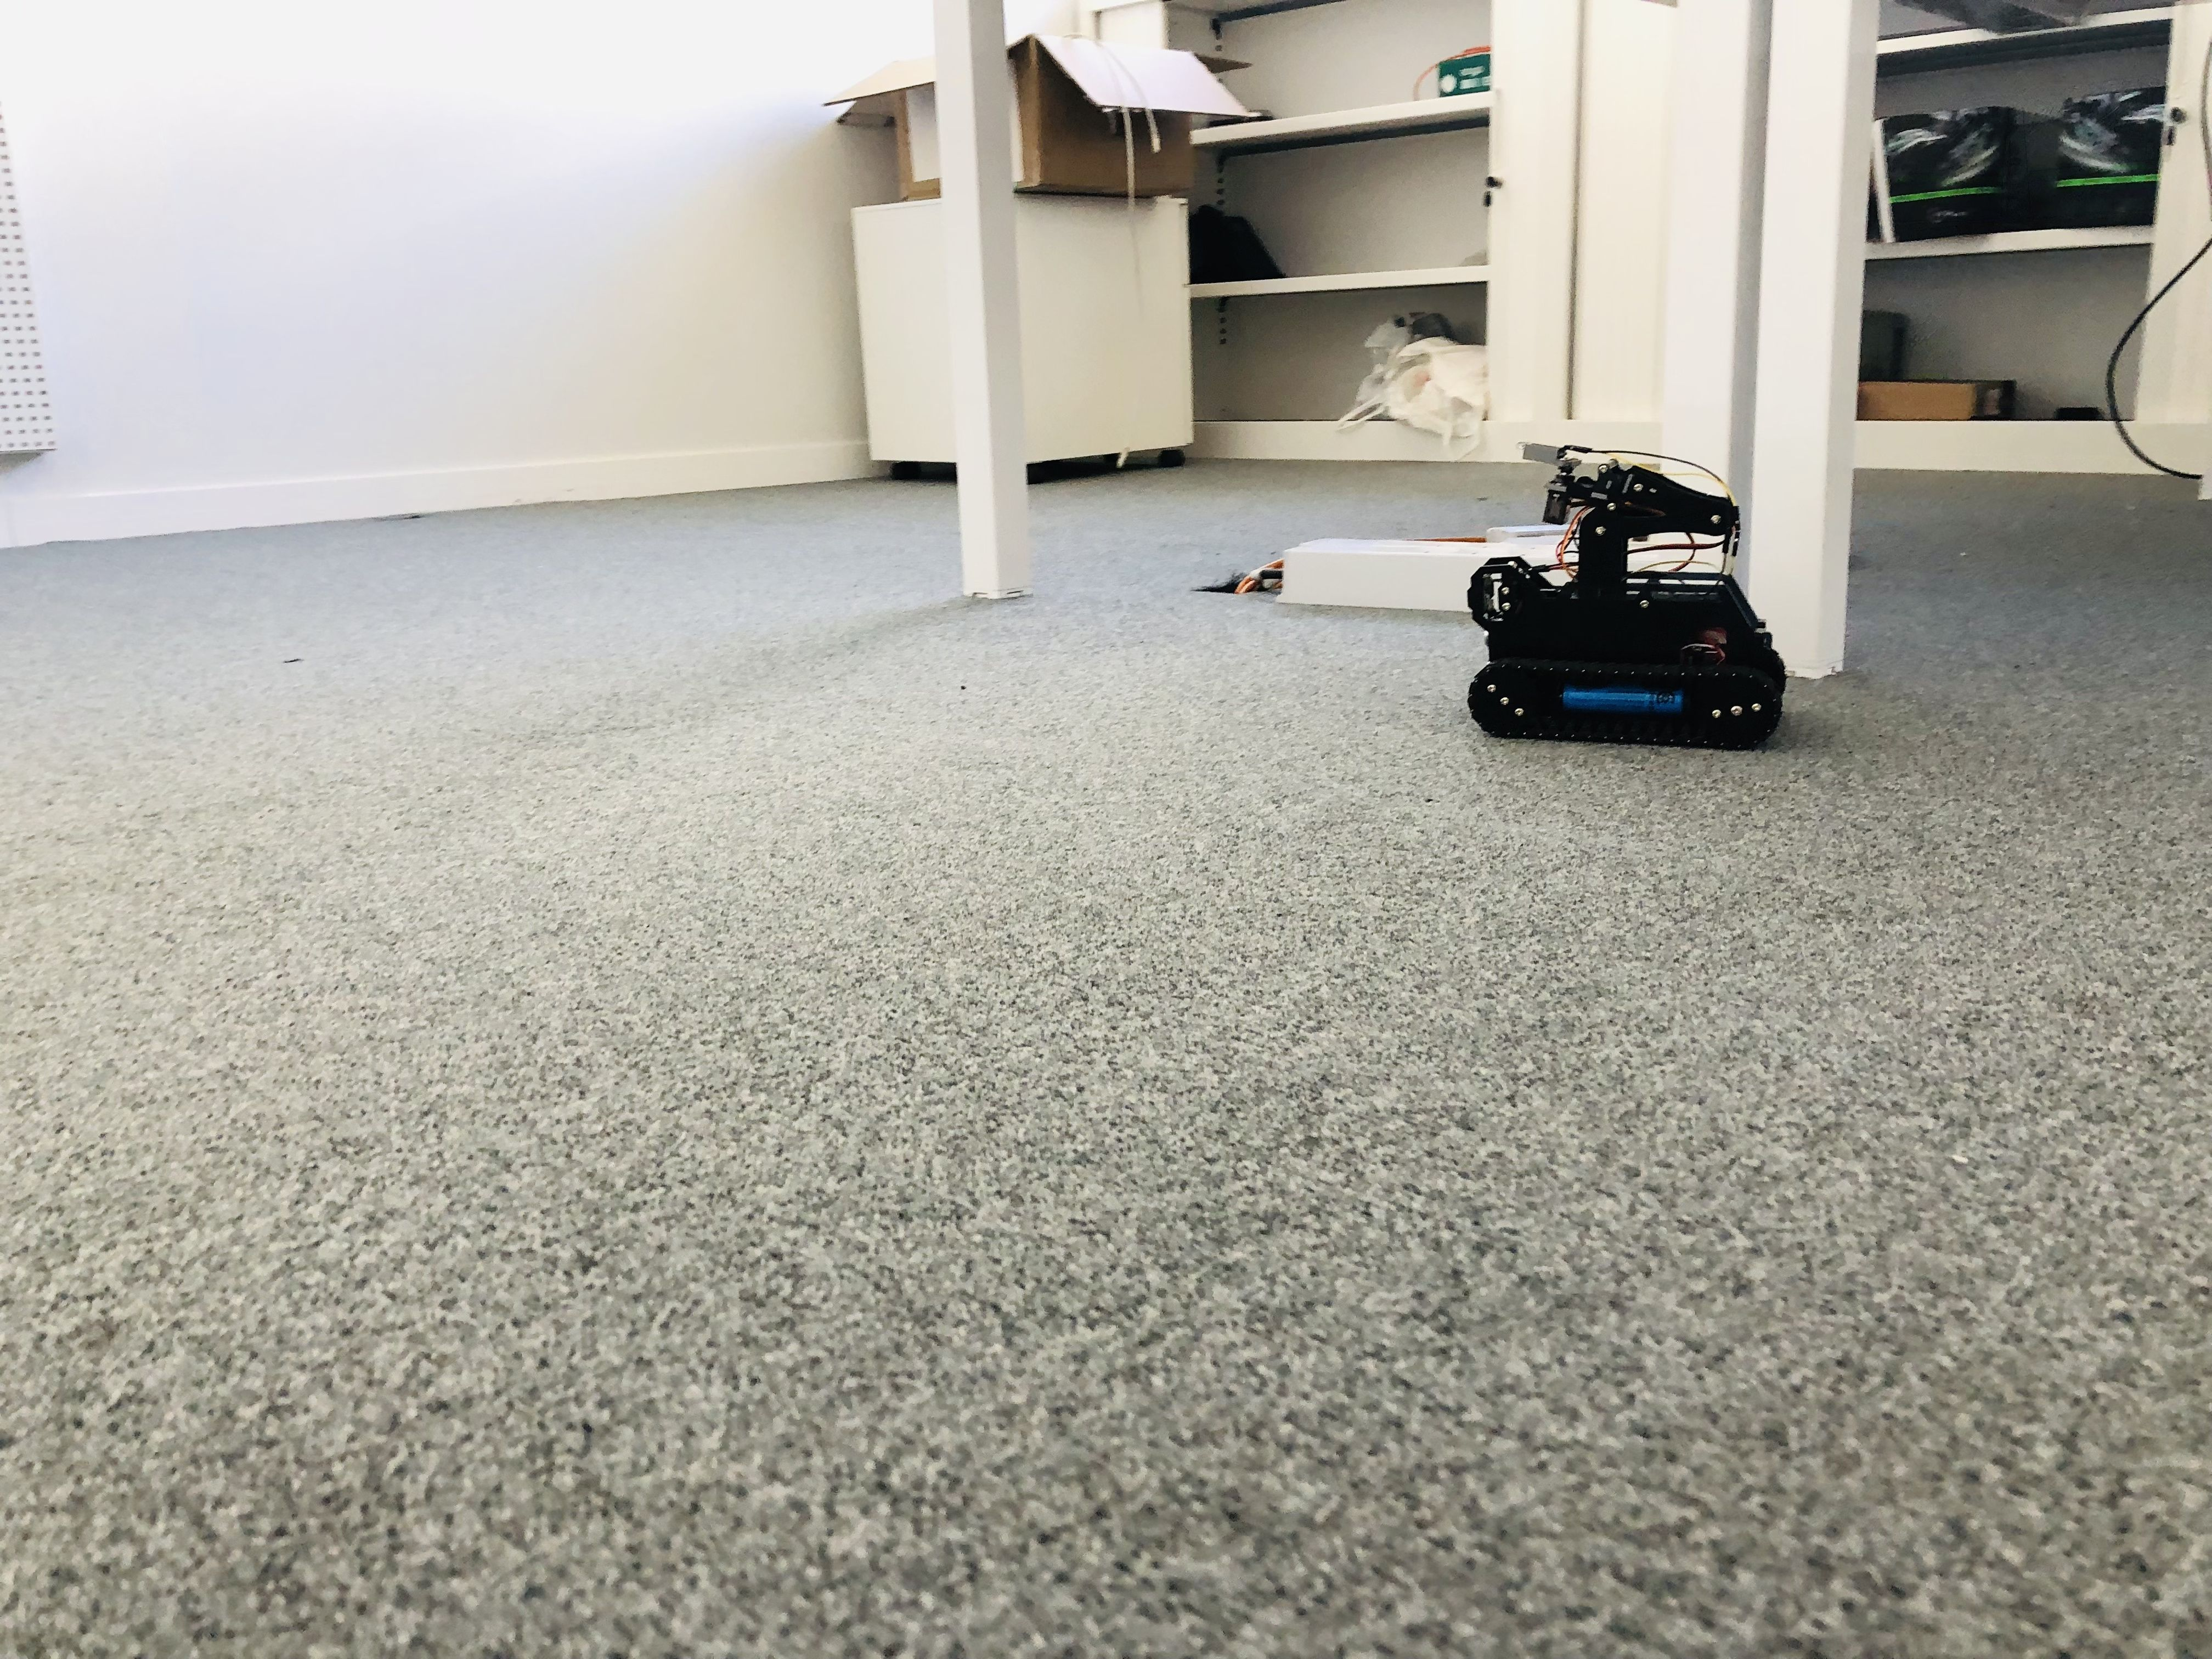rasptank: (1460, 439, 1791, 751)
